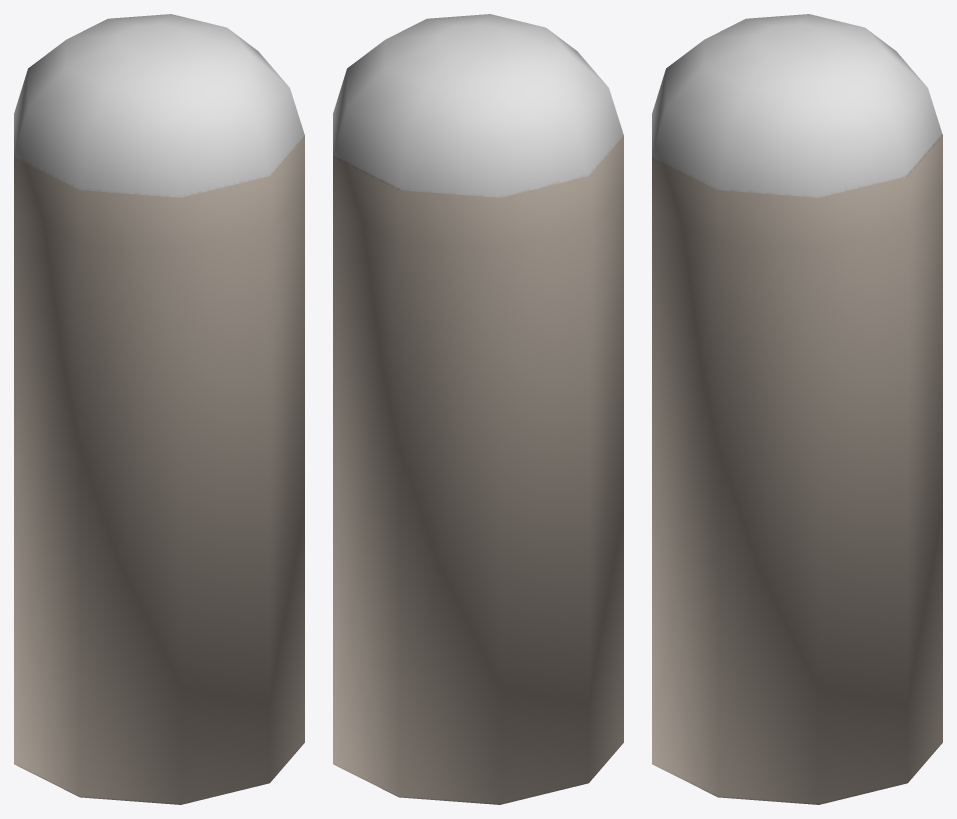
Rendered from Grainsilo.glb.
The picture shows the model from 3 angles, left to right: view 1: azimuth 30°, elevation 25°; view 2: azimuth 150°, elevation 25°; view 3: azimuth 270°, elevation 25°; orthographic projection.
Parts seen in each view (by area): view 1: GrainSilo; view 2: GrainSilo; view 3: GrainSilo.
Boxes of the visible parts, x1=… form: GrainSilo: x1=14, y1=14, x2=304, y2=804; GrainSilo: x1=333, y1=14, x2=623, y2=804; GrainSilo: x1=652, y1=14, x2=942, y2=804.
Size of what is drawn, in the model's own units: 3.2 by 8.39 by 3.15.
Materials: 1 (1 with a texture image).
